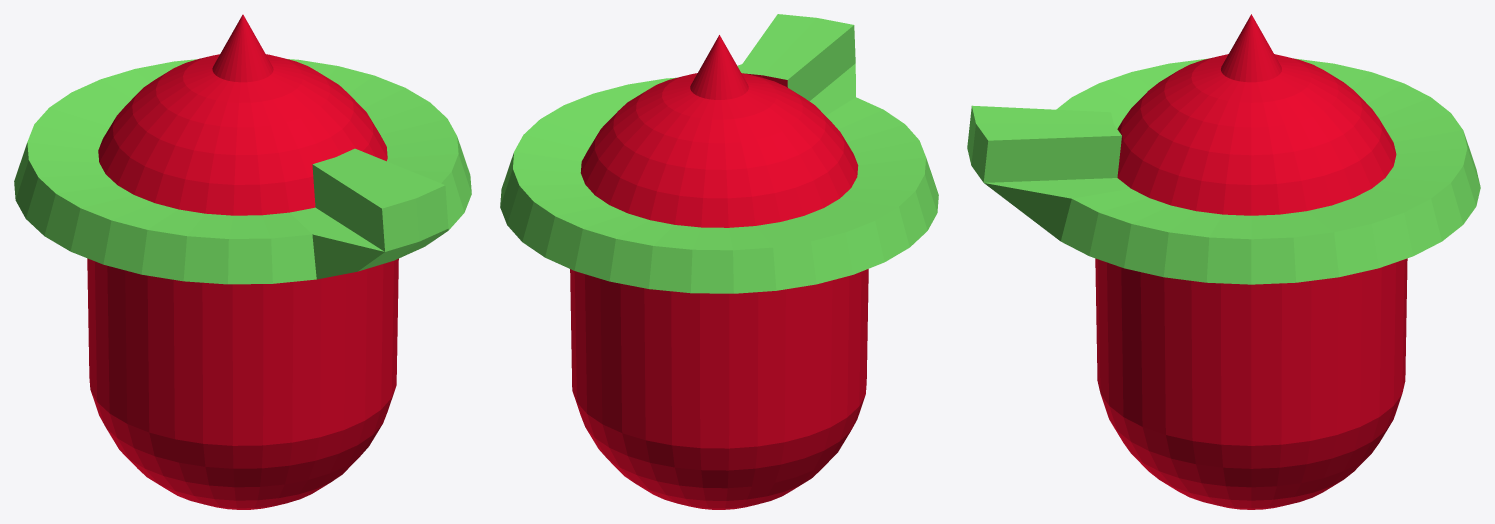
Rendered from Karinha.fbx.
3 renders of one model, left to right at view 1: azimuth 30°, elevation 25°; view 2: azimuth 150°, elevation 25°; view 3: azimuth 270°, elevation 25°, orthographic. The views are drawn at different scales.
Visible parts, largest first — view 1: Sphere.001; view 2: Sphere.001; view 3: Sphere.001.
Boxes of the visible parts, x1,y1,x2,y2 form: Sphere.001: [14, 14, 471, 509]; Sphere.001: [500, 14, 938, 509]; Sphere.001: [967, 14, 1480, 509].
Bounding box in the file's own units: 54.47 × 63.08 × 60.99.
